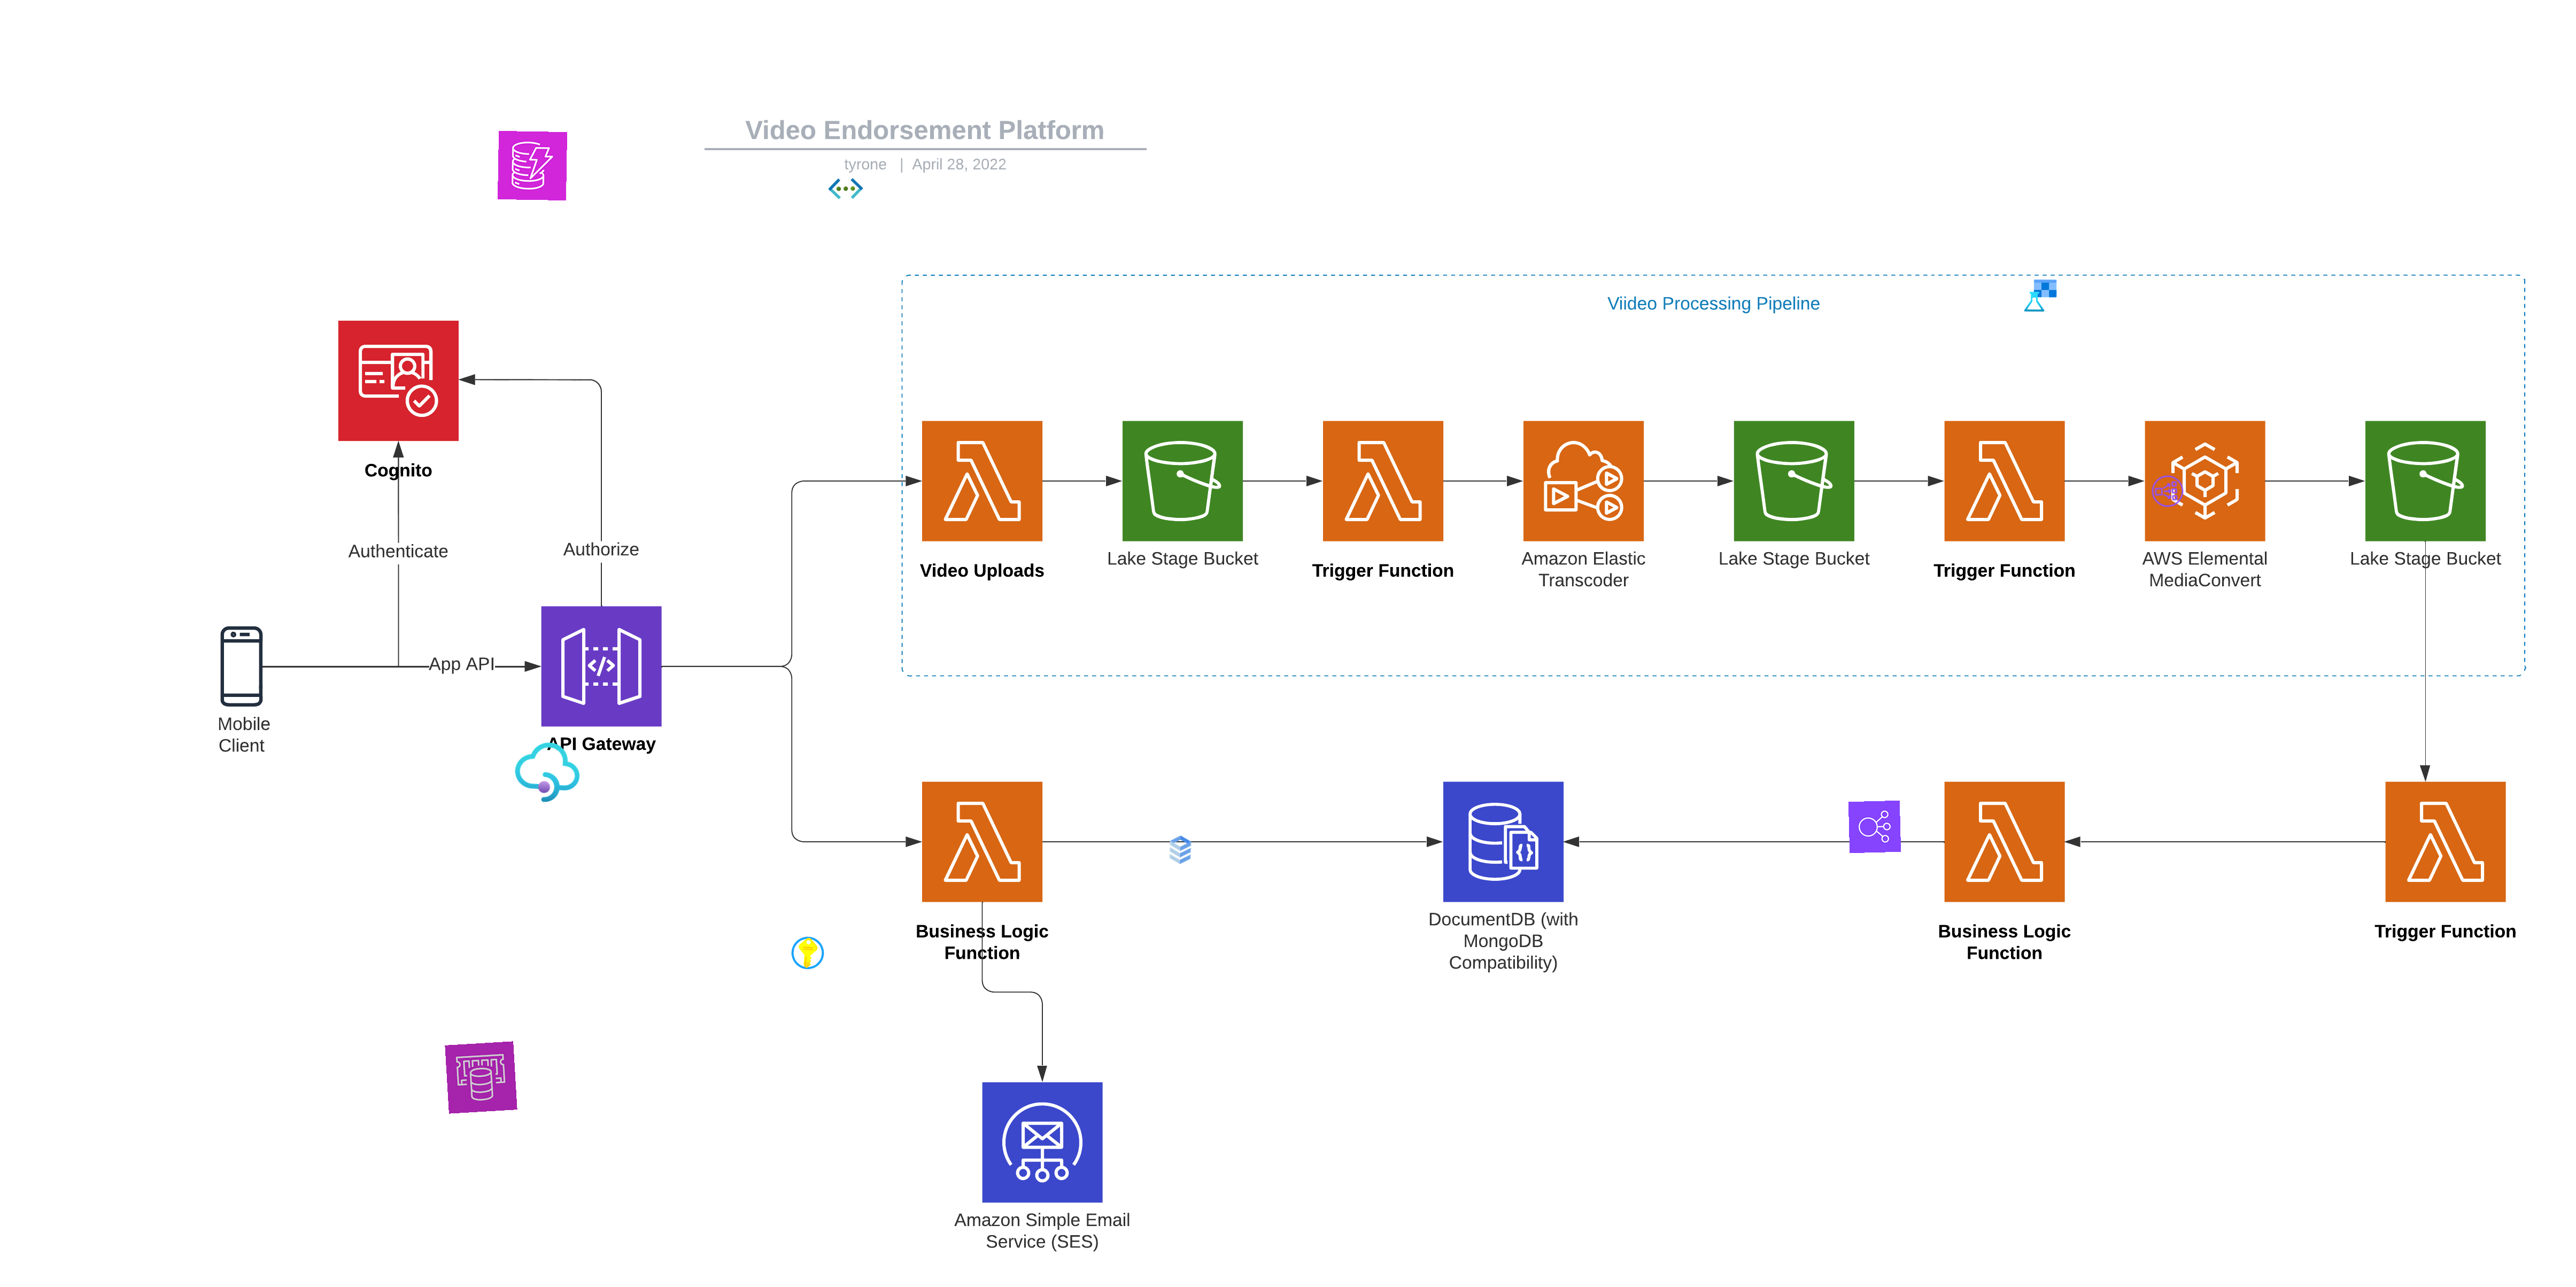aws_amazon_dynamodb: (498, 130, 568, 200)
aws_amazon_elasticache: (445, 1041, 518, 1115)
aws_elastic_load_balancing: (1848, 799, 1901, 854)
aws_elastic_load_balancing_network_load_balancer: (2149, 473, 2185, 509)
azure_api_management_services: (511, 735, 583, 809)
azure_key_vaults: (789, 934, 826, 972)
azure_machine_learning_studio_workspaces: (2022, 277, 2059, 314)
azure_virtual_networks: (828, 171, 863, 207)
gcp_cloud_sql: (1162, 832, 1198, 868)
